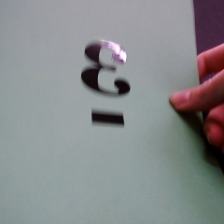green3: (74, 33, 135, 134)
